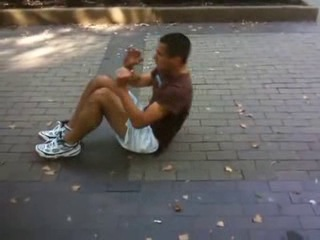sit_up: (29, 38, 185, 162)
